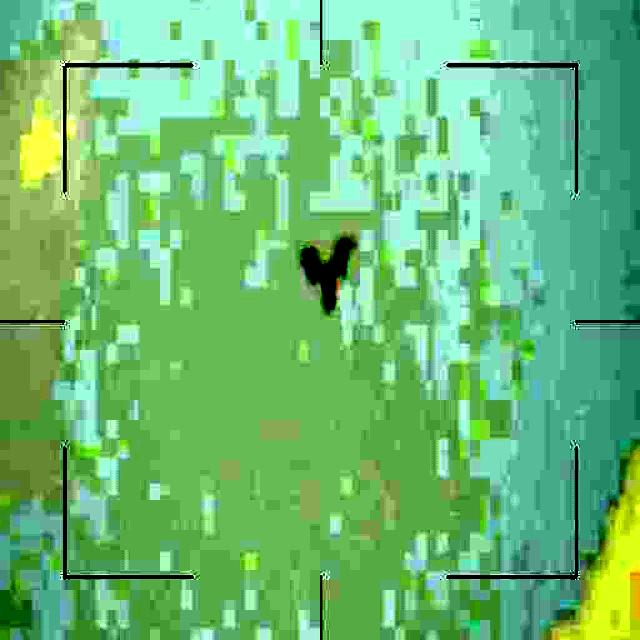bird: (296, 234, 355, 314)
